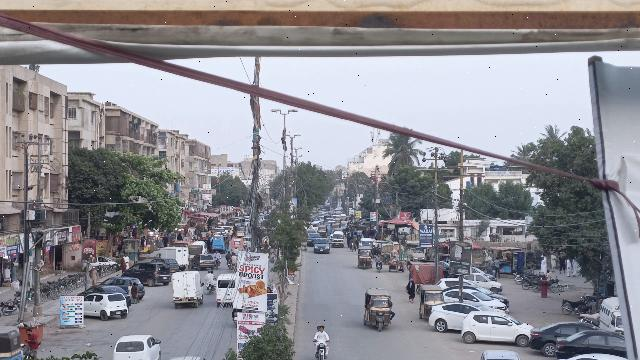Bike: (314, 340, 330, 360), (374, 260, 385, 273)
Car: (459, 310, 533, 346), (550, 326, 624, 360), (526, 321, 588, 355), (425, 300, 486, 333), (110, 333, 162, 360), (83, 292, 129, 322), (123, 261, 172, 287), (192, 252, 214, 269), (312, 236, 330, 254)
Person: (24, 328, 40, 352), (404, 278, 417, 305), (89, 264, 100, 285), (317, 325, 327, 340), (375, 253, 383, 261)
Rickshaw: (360, 287, 397, 332), (417, 282, 445, 324), (355, 246, 375, 270)
Truck: (171, 270, 205, 309), (156, 245, 189, 268)
Van: (216, 272, 237, 307), (330, 231, 346, 249)
